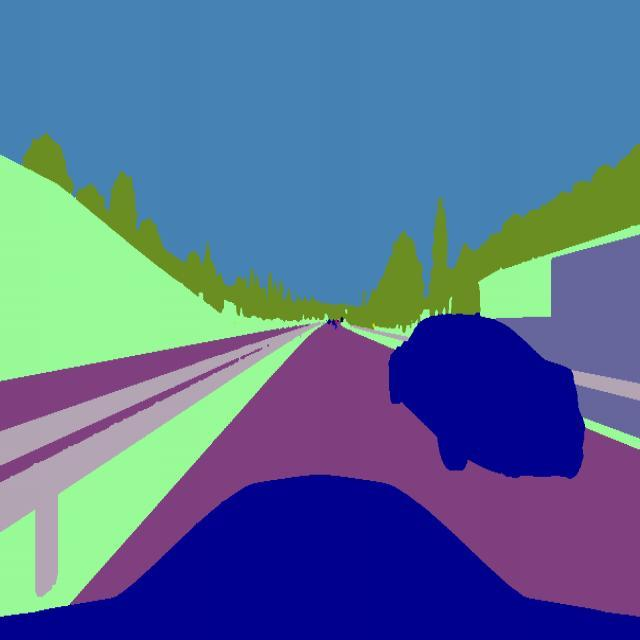unsafe: (382, 308, 586, 496)
